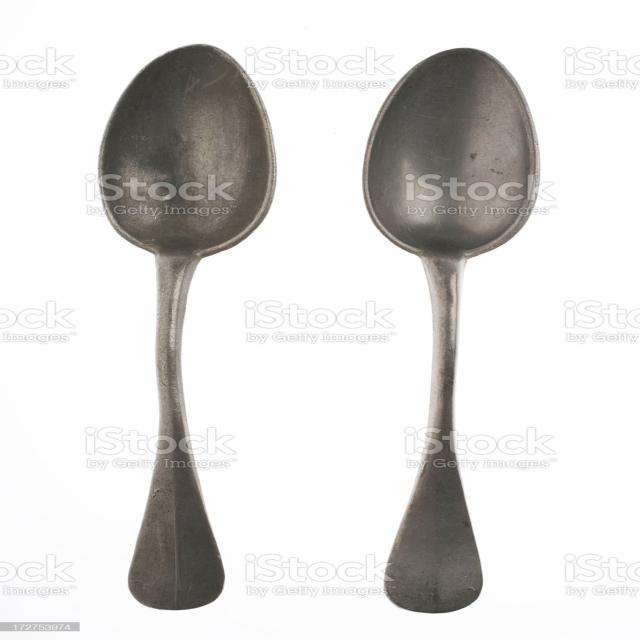spoon: (329, 36, 551, 616)
